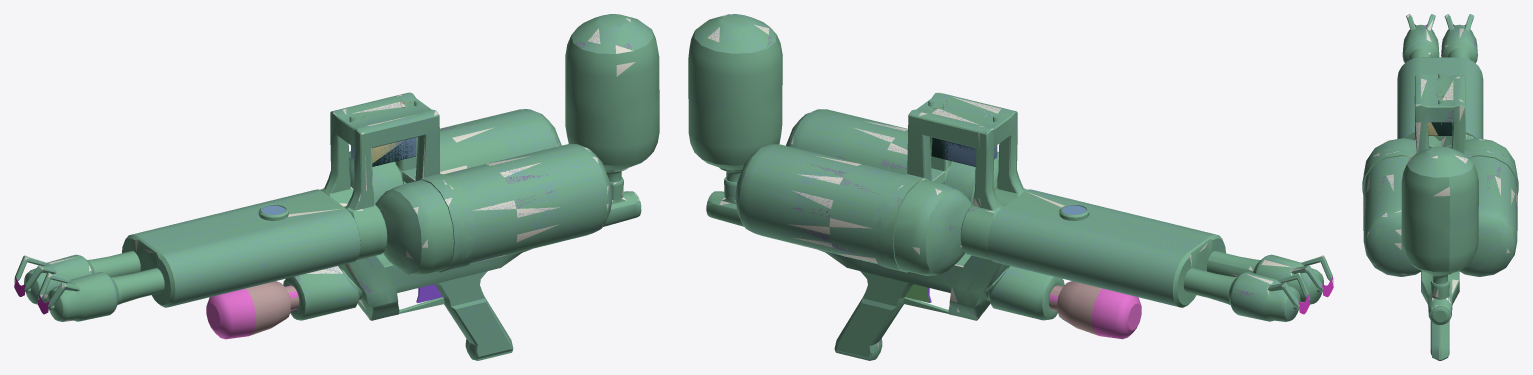
File: RipScript.fbx
3 views of the same model, side by side, from view 1: azimuth 30°, elevation 25°; view 2: azimuth 150°, elevation 25°; view 3: azimuth 270°, elevation 25° (orthographic). The views are drawn at different scales.
Visible parts, largest first — view 1: 011-0-11, 003-0-3, 002-0-2, 010-0-10, 012-0-12; view 2: 011-0-11, 003-0-3, 002-0-2, 010-0-10; view 3: 011-0-11, 003-0-3, 012-0-12.
Part boxes in pixels (left/top/right/bottom): 011-0-11: left=14, top=14, right=659, bottom=360; 003-0-3: left=15, top=14, right=651, bottom=357; 002-0-2: left=206, top=285, right=298, bottom=339; 010-0-10: left=246, top=281, right=299, bottom=335; 012-0-12: left=372, top=141, right=415, bottom=166; 011-0-11: left=688, top=14, right=1333, bottom=360; 003-0-3: left=688, top=14, right=1331, bottom=360; 002-0-2: left=1049, top=288, right=1141, bottom=339; 010-0-10: left=1049, top=281, right=1101, bottom=335; 011-0-11: left=1362, top=14, right=1518, bottom=360; 003-0-3: left=1363, top=14, right=1517, bottom=356; 012-0-12: left=1428, top=122, right=1452, bottom=135.
Size of the model in its own units: 18.35 by 8.61 by 4.87.
